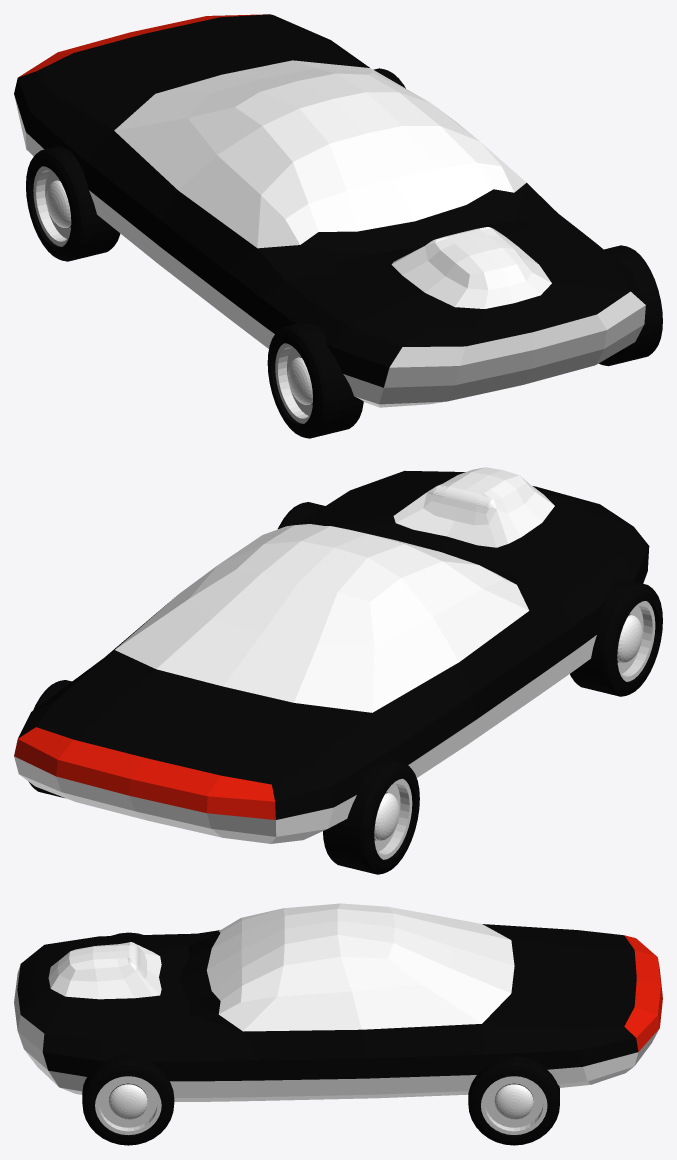
File: de_hauwere_yentel_toy2.glb
3 views of the same model, one above another, from view 1: azimuth 30°, elevation 25°; view 2: azimuth 150°, elevation 25°; view 3: azimuth 270°, elevation 25° (orthographic). The views are drawn at different scales.
Parts seen in each view (by area): view 1: Car, Cylinder.003, Cylinder.004, Cylinder.001; view 2: Car, Cylinder.004, Cylinder.003, Cylinder.001; view 3: Car, Cylinder.001, Cylinder.002.
Part boxes in pixels (x1=…): Car: x1=14, y1=14, x2=645, y2=407; Cylinder.003: x1=267, y1=322, x2=363, y2=438; Cylinder.004: x1=26, y1=146, x2=120, y2=261; Cylinder.001: x1=599, y1=245, x2=662, y2=366; Car: x1=14, y1=467, x2=649, y2=843; Cylinder.004: x1=323, y1=759, x2=419, y2=874; Cylinder.003: x1=570, y1=579, x2=662, y2=696; Cylinder.001: x1=278, y1=502, x2=325, y2=528; Car: x1=14, y1=903, x2=662, y2=1101; Cylinder.001: x1=82, y1=1053, x2=174, y2=1145; Cylinder.002: x1=468, y1=1056, x2=559, y2=1145.
Size of the model in its own units: 2.21 by 1.22 by 4.51.
